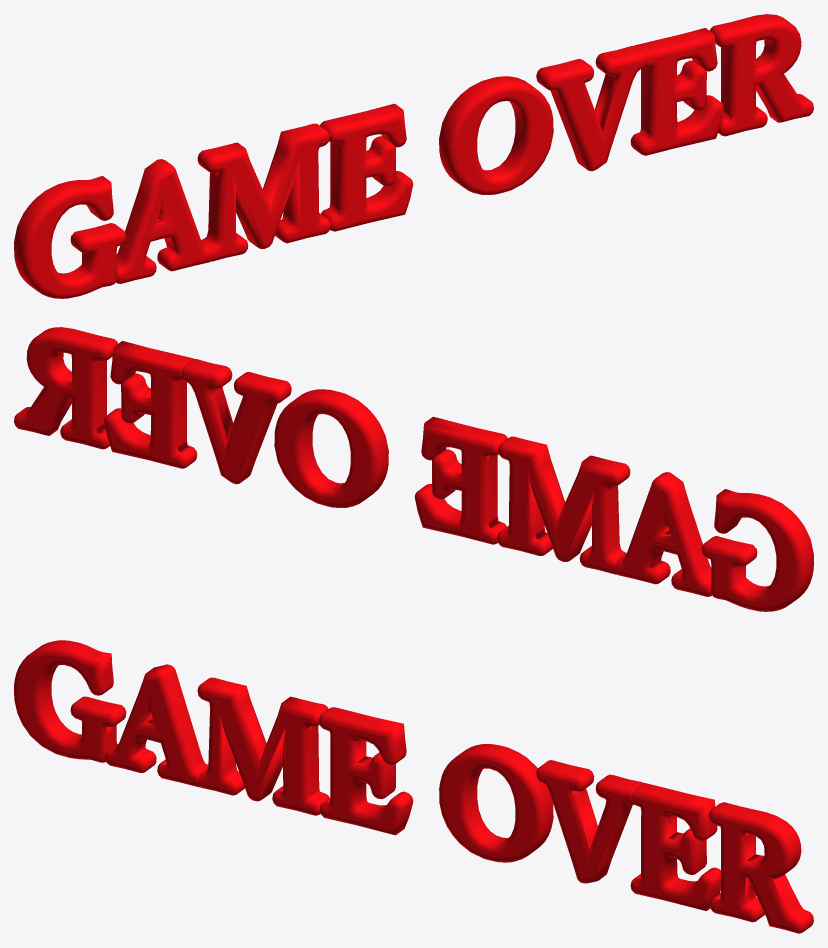
Rendered from gameover.obj.
The picture shows the model from 3 angles, top to bottom: view 1: azimuth 30°, elevation 25°; view 2: azimuth 150°, elevation 25°; view 3: azimuth 330°, elevation 25°; orthographic projection.
Visible parts, largest first — view 1: テキスト; view 2: テキスト; view 3: テキスト.
Boxes of the visible parts, bbox=[...] form: テキスト: bbox=[14, 14, 813, 298]; テキスト: bbox=[14, 327, 813, 611]; テキスト: bbox=[14, 640, 813, 933].
Size of the model in its own units: 1.94 by 0.2562 by 0.0611.
1 material, 1 textured.
